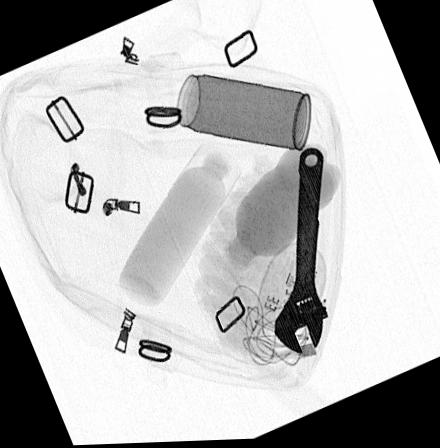Wrench: (271, 149, 332, 361)
